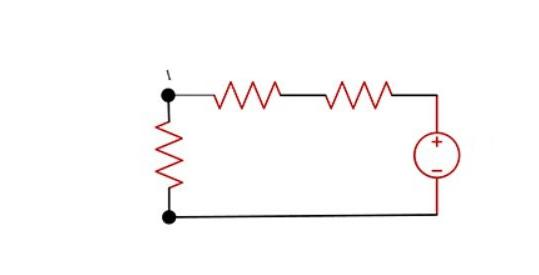resistor: (202, 71, 299, 118), (317, 72, 417, 117), (147, 102, 188, 198)
